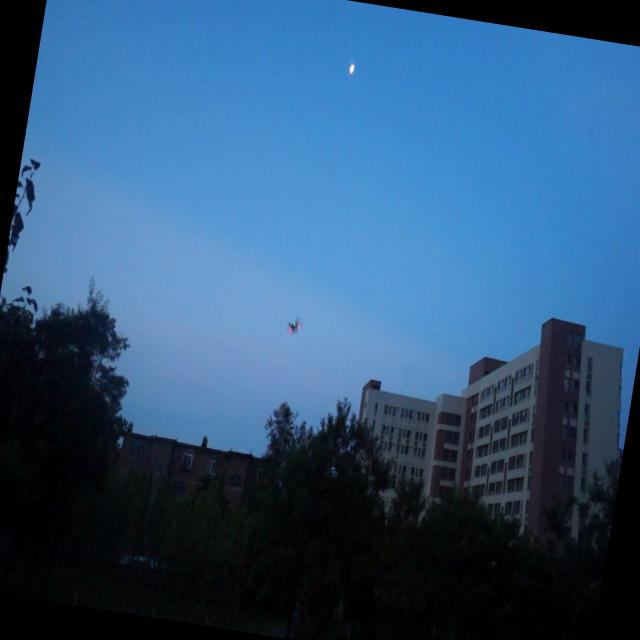drone: (286, 317, 302, 340)
